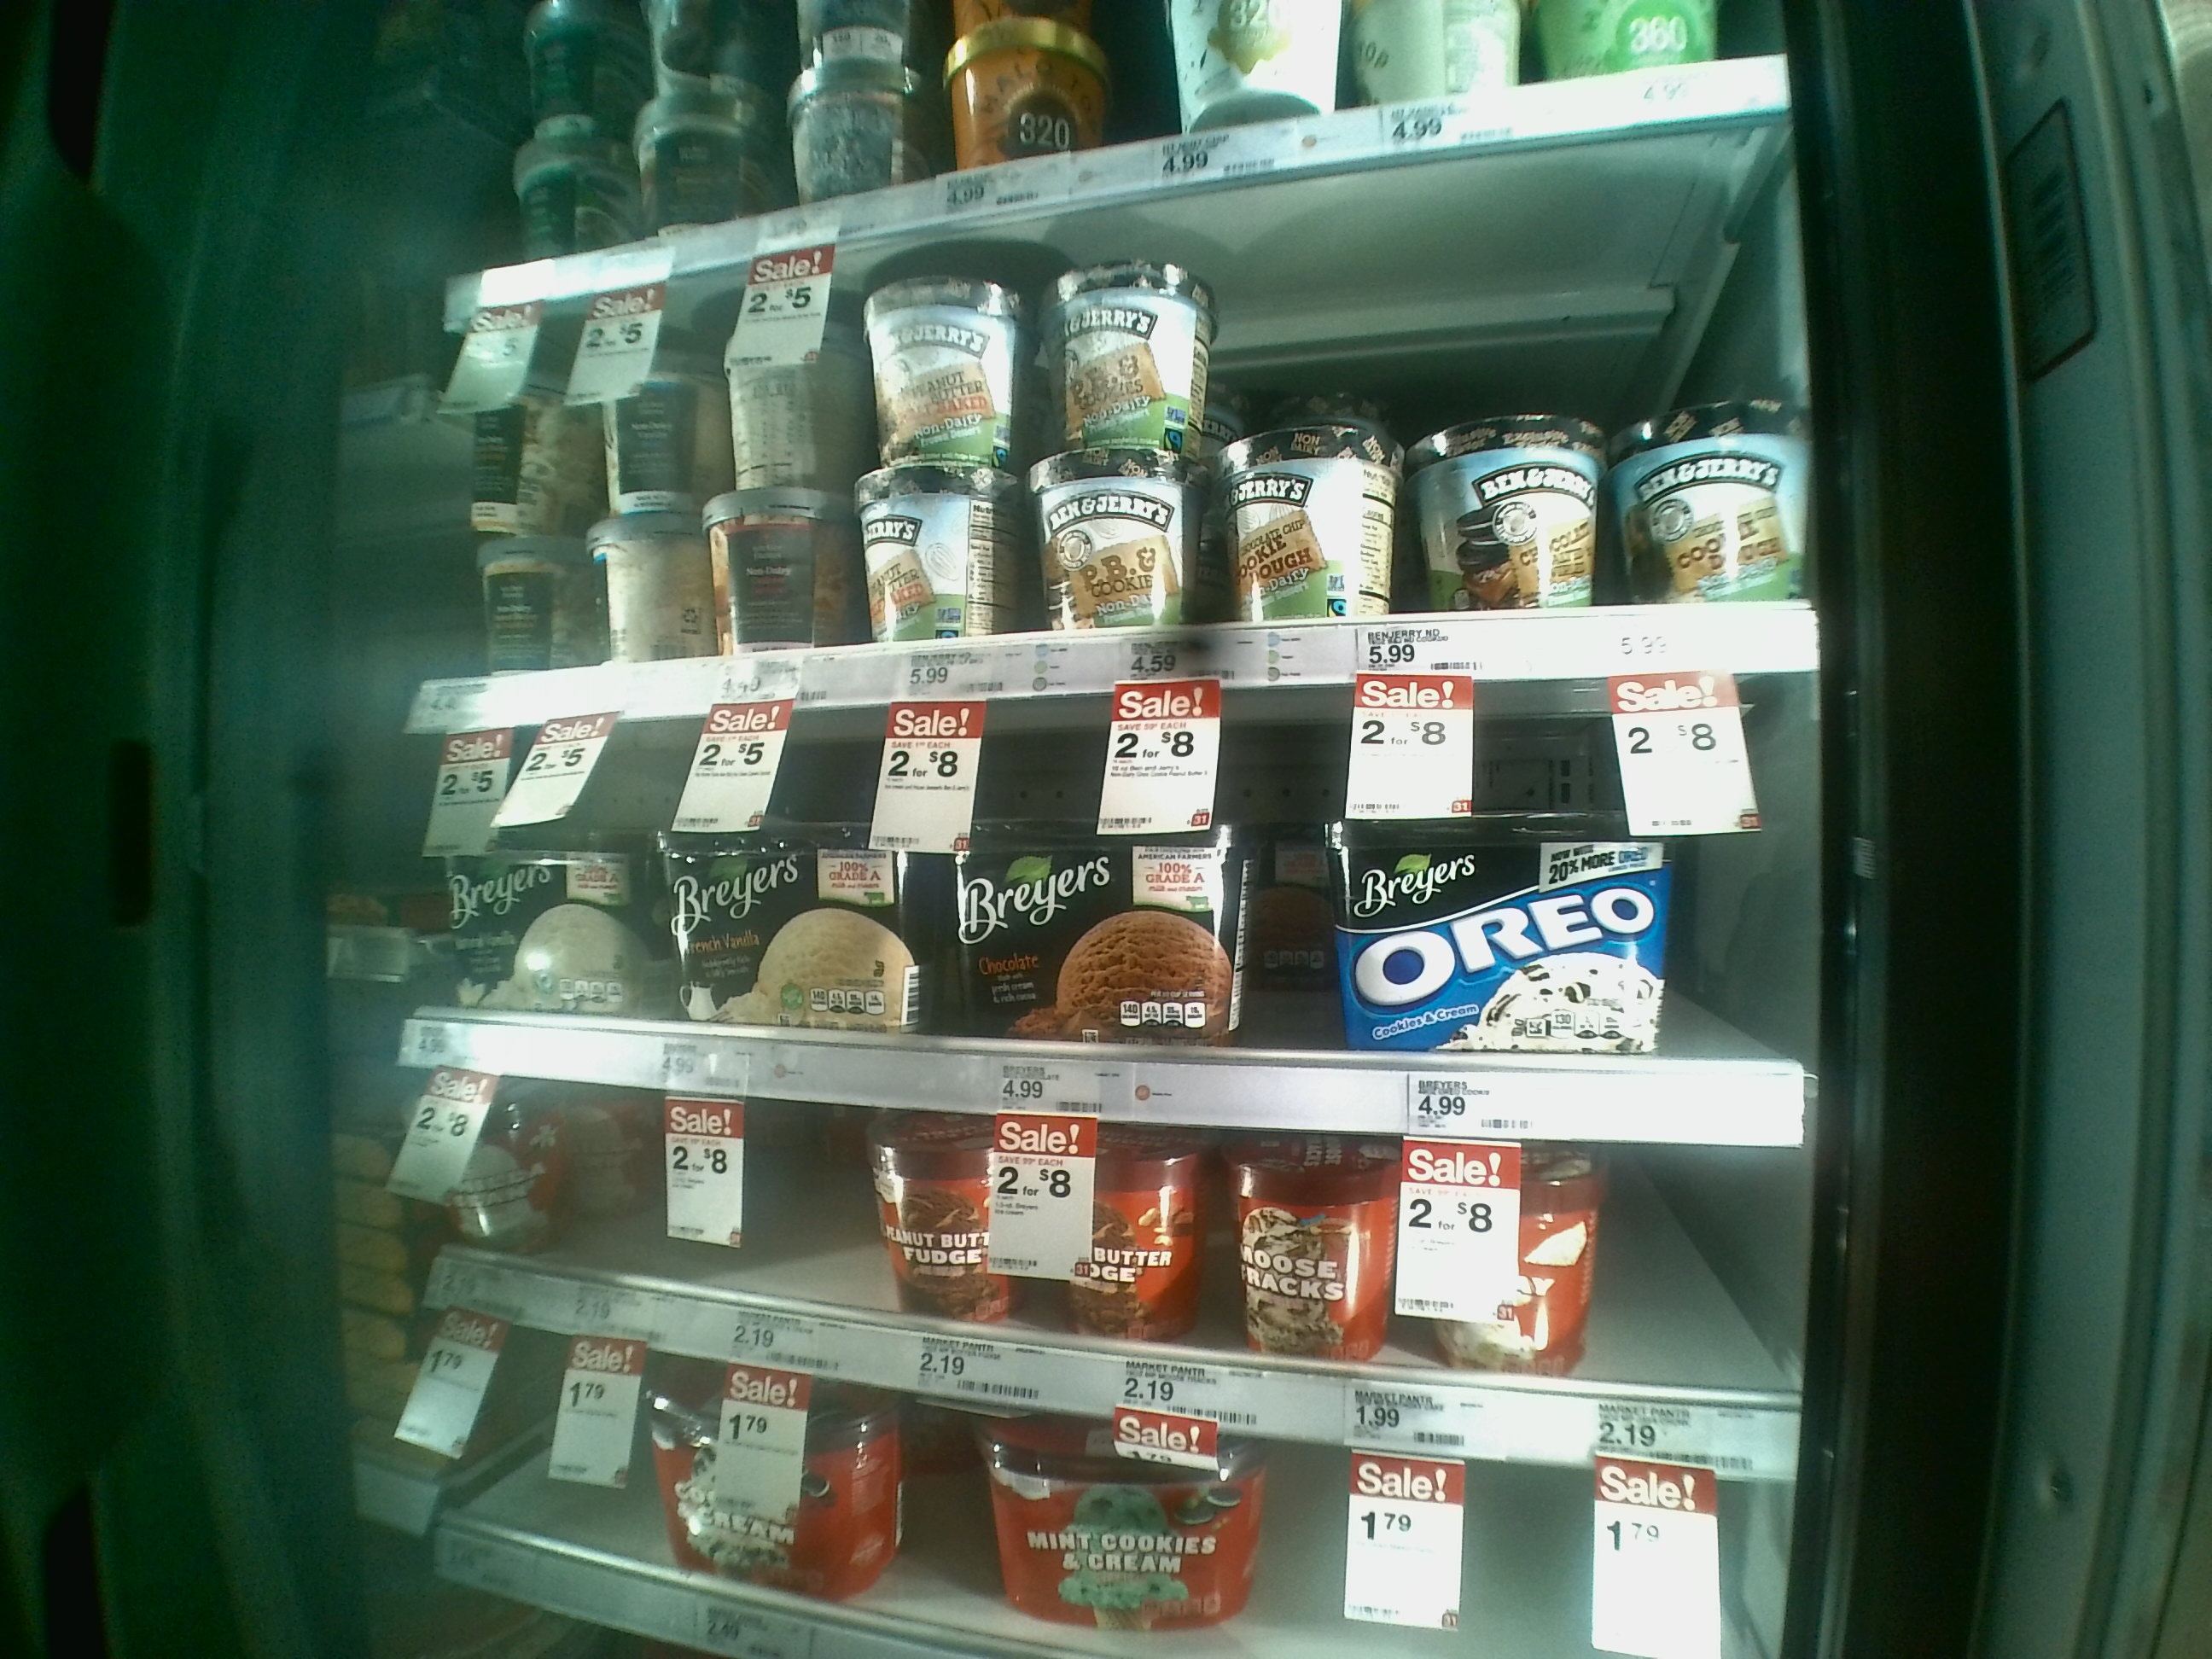shelf: (409, 113, 1827, 734), (409, 681, 1815, 1143)
